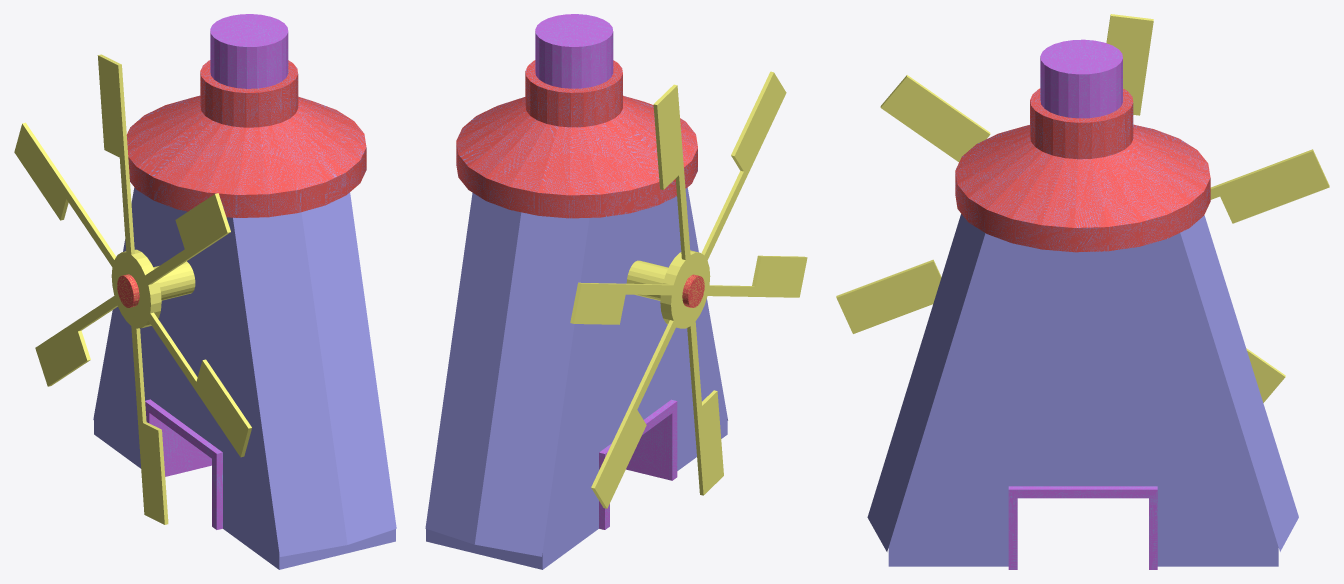
Rendered from MolinoGolf.fbx.
3 renders of one model, left to right at view 1: azimuth 30°, elevation 25°; view 2: azimuth 150°, elevation 25°; view 3: azimuth 270°, elevation 25°, orthographic. The views are drawn at different scales.
Parts seen in each view (by area): view 1: Material2.002, Material3, Material2.001, Material3.001; view 2: Material2.002, Material3, Material2.001, Material3.001; view 3: Material2.002, Material3, Material2.001, Material3.001.
Boxes of the visible parts, <box> form: Material2.002: <box>93,14,396,569</box>; Material3: <box>117,60,366,307</box>; Material2.001: <box>14,54,251,524</box>; Material3.001: <box>145,14,288,529</box>; Material2.002: <box>425,14,727,569</box>; Material3: <box>456,60,704,307</box>; Material2.001: <box>570,71,807,508</box>; Material3.001: <box>535,14,677,529</box>; Material2.002: <box>867,40,1298,569</box>; Material3: <box>955,88,1210,252</box>; Material2.001: <box>836,14,1329,402</box>; Material3.001: <box>1008,39,1157,569</box>.
Bounding box in the file's own units: 10017 × 19473 × 18088.
